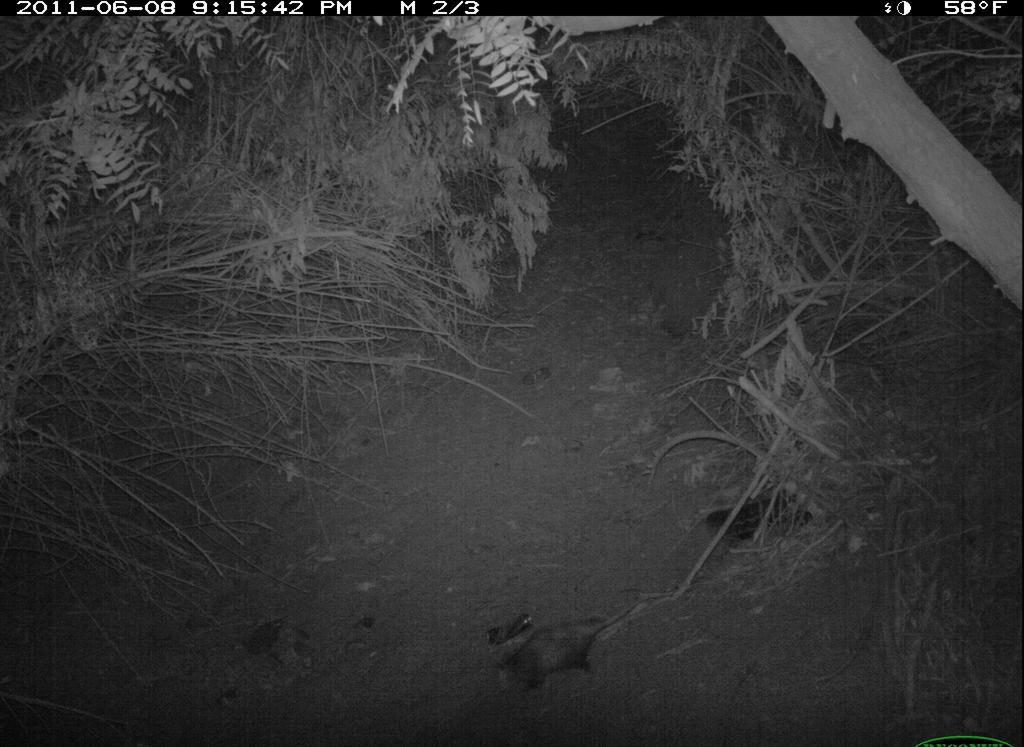opossum: (489, 588, 666, 698)
